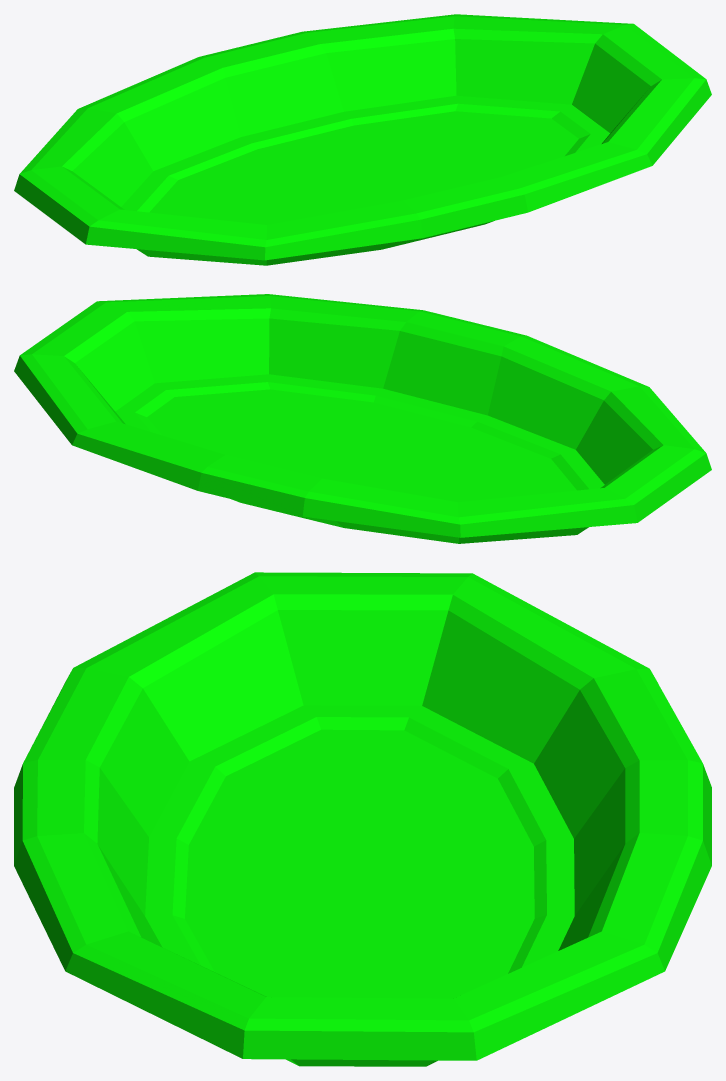
The model's file is SM_Plate_Pewter_Tray_B.fbx.
3 renders of one model, top to bottom at view 1: azimuth 30°, elevation 25°; view 2: azimuth 150°, elevation 25°; view 3: azimuth 270°, elevation 25°, orthographic. The views are drawn at different scales.
Parts seen in each view (by area): view 1: plate-pewter-tray-b; view 2: plate-pewter-tray-b; view 3: plate-pewter-tray-b.
Part boxes in pixels (bbox=[...]): plate-pewter-tray-b: bbox=[14, 14, 711, 265]; plate-pewter-tray-b: bbox=[14, 294, 711, 543]; plate-pewter-tray-b: bbox=[14, 572, 711, 1066].
Bounding box in the file's own units: 0.3391 × 0.0323 × 0.2142.
